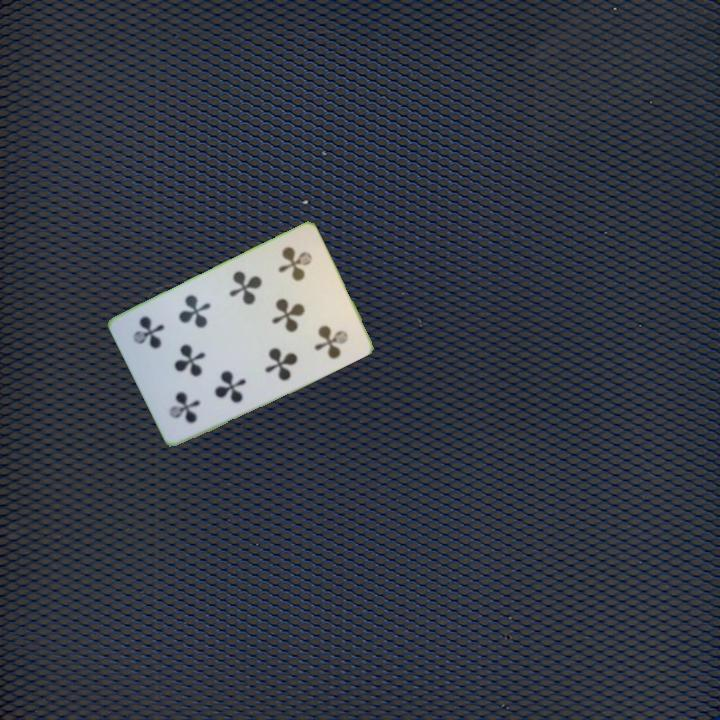c_10.png: (146, 355, 226, 439), (256, 232, 336, 316)
